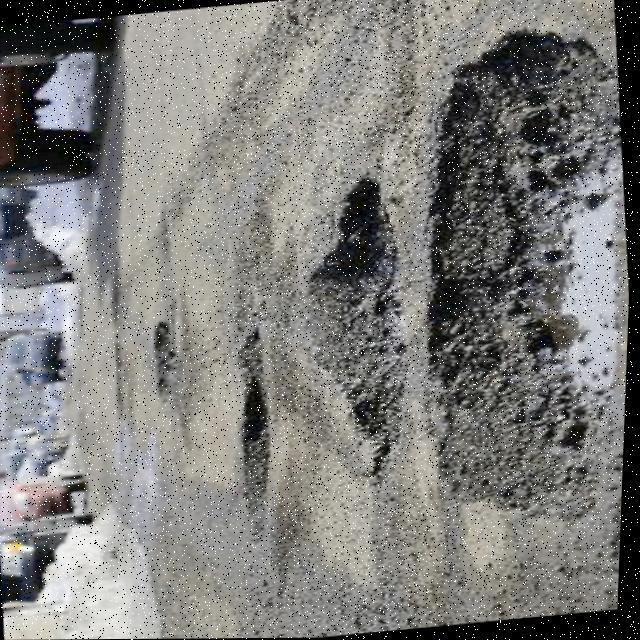pothole: (388, 11, 640, 534), (272, 170, 435, 486)
